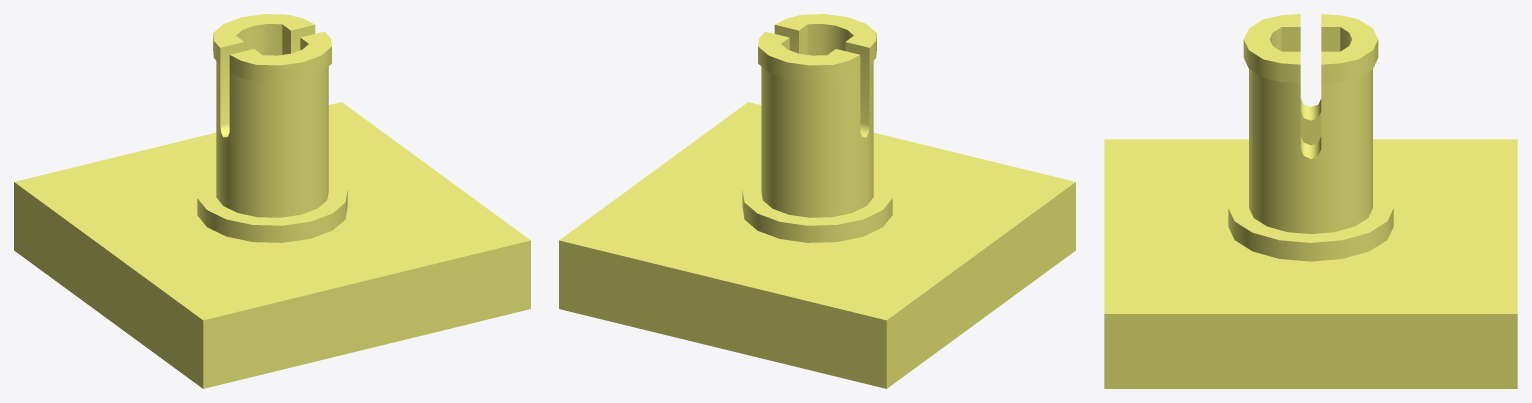
3 views of the same model, side by side, from view 1: azimuth 30°, elevation 25°; view 2: azimuth 150°, elevation 25°; view 3: azimuth 270°, elevation 25° (orthographic). The views are drawn at different scales.
Visible parts, largest first — view 1: 49153.dat; view 2: 49153.dat; view 3: 49153.dat.
Part boxes in pixels (x1,y1,x2,y2): 49153.dat: (14, 14, 530, 388); 49153.dat: (559, 14, 1075, 388); 49153.dat: (1104, 14, 1517, 388).
Bounding box in the file's own units: 0.016 × 0.0112 × 0.016.
